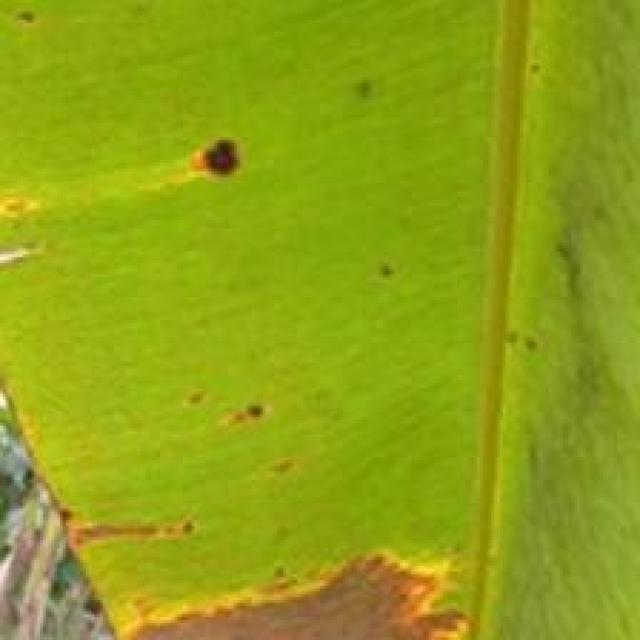Bacterial_spot: (86, 542, 495, 640), (178, 369, 302, 451), (166, 113, 264, 208), (66, 512, 230, 554), (248, 434, 333, 512), (0, 220, 57, 272), (16, 2, 44, 37)
